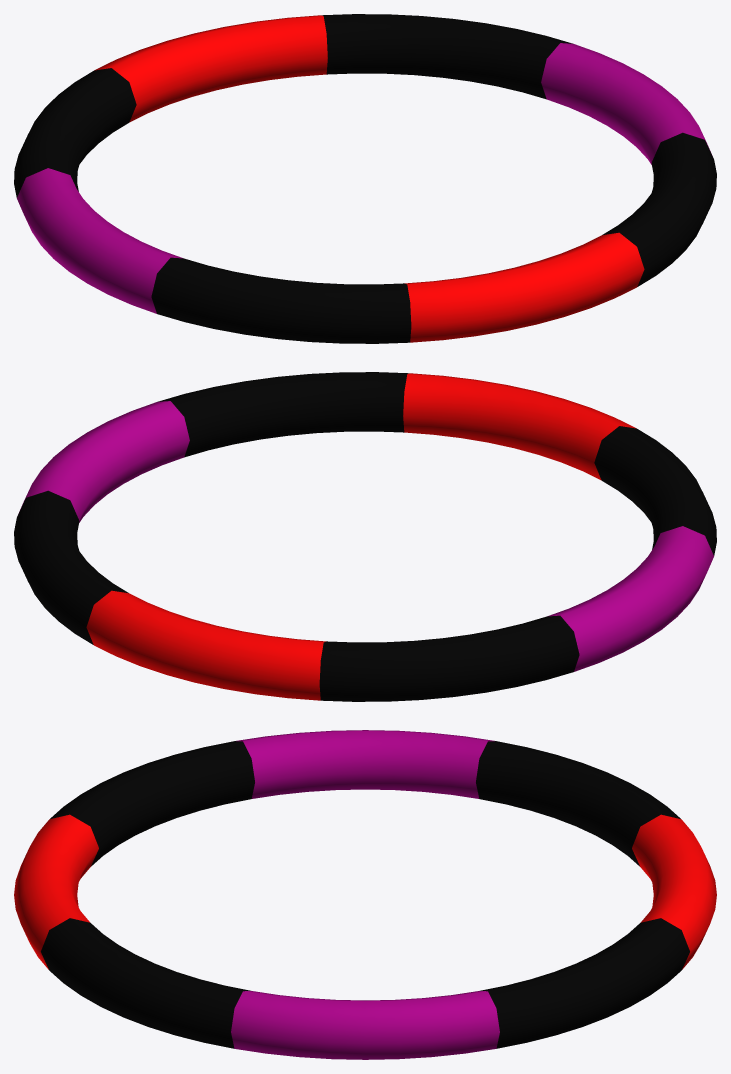
File: TorusCircle.fbx
3 views of the same model, one above another, from view 1: azimuth 30°, elevation 25°; view 2: azimuth 150°, elevation 25°; view 3: azimuth 270°, elevation 25° (orthographic).
Parts seen in each view (by area): view 1: Torus001; view 2: Torus001; view 3: Torus001.
Boxes of the visible parts, x1,y1,x2,y2 form: Torus001: [14, 14, 716, 343]; Torus001: [14, 372, 716, 701]; Torus001: [14, 730, 716, 1059].
Size of the model in its own units: 8.4 by 0.7557 by 8.4.
